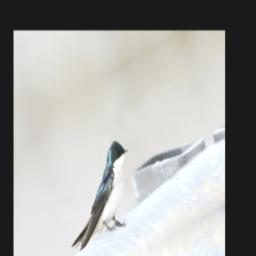Swallow: (53, 132, 145, 256)
